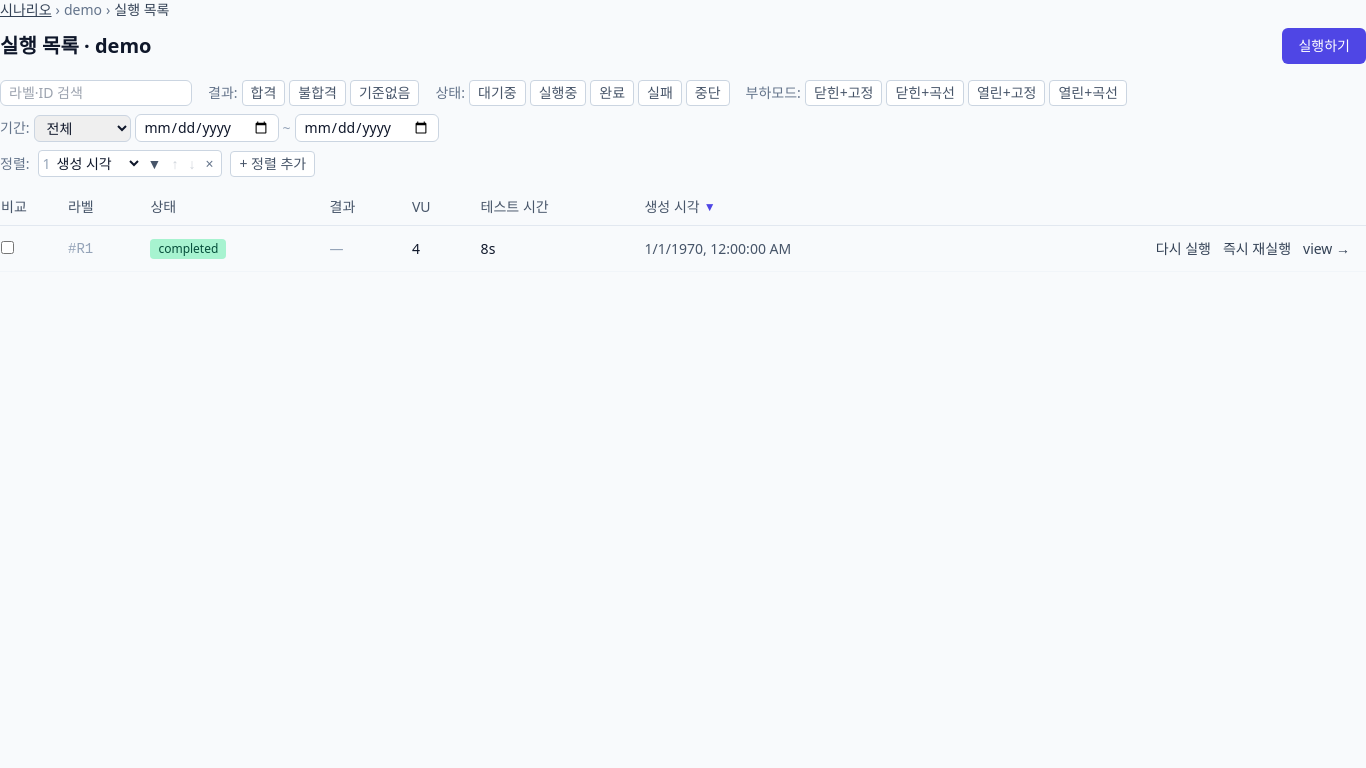
Test case: ScenarioRunsPage — retry (A1) › shows the drift warning when the run snapshot differs from the live scenario
The image size is (1366, 768).
Click the button "다시 실행": (1183, 248) [1156,238,1211,258]
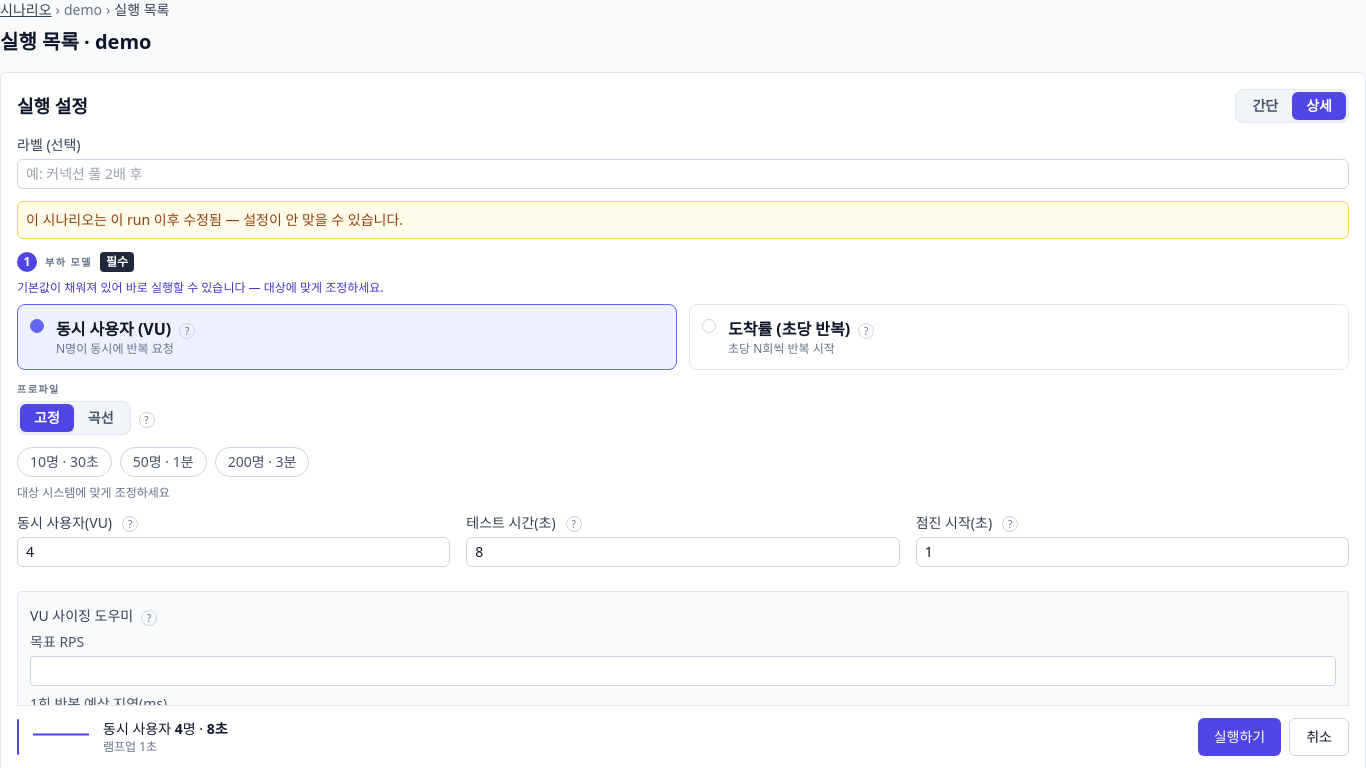
Now the message shows "이 run 이후 수정됨", box [26,210,403,229]
